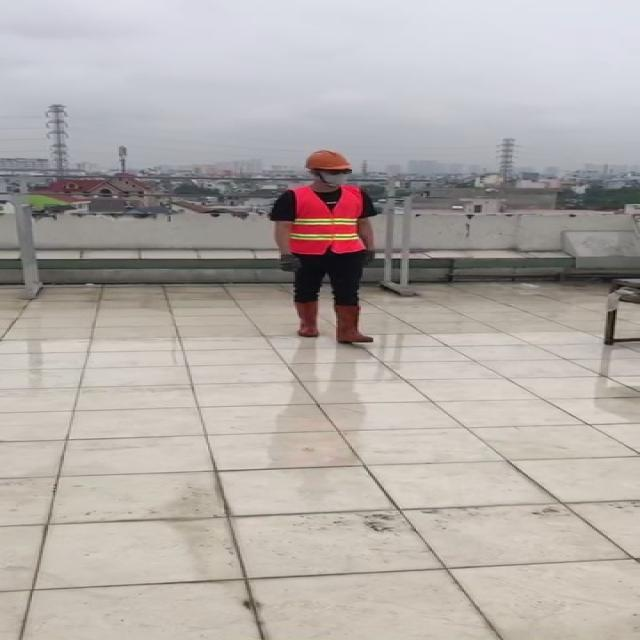boots: (332, 303, 373, 343), (292, 299, 322, 336)
